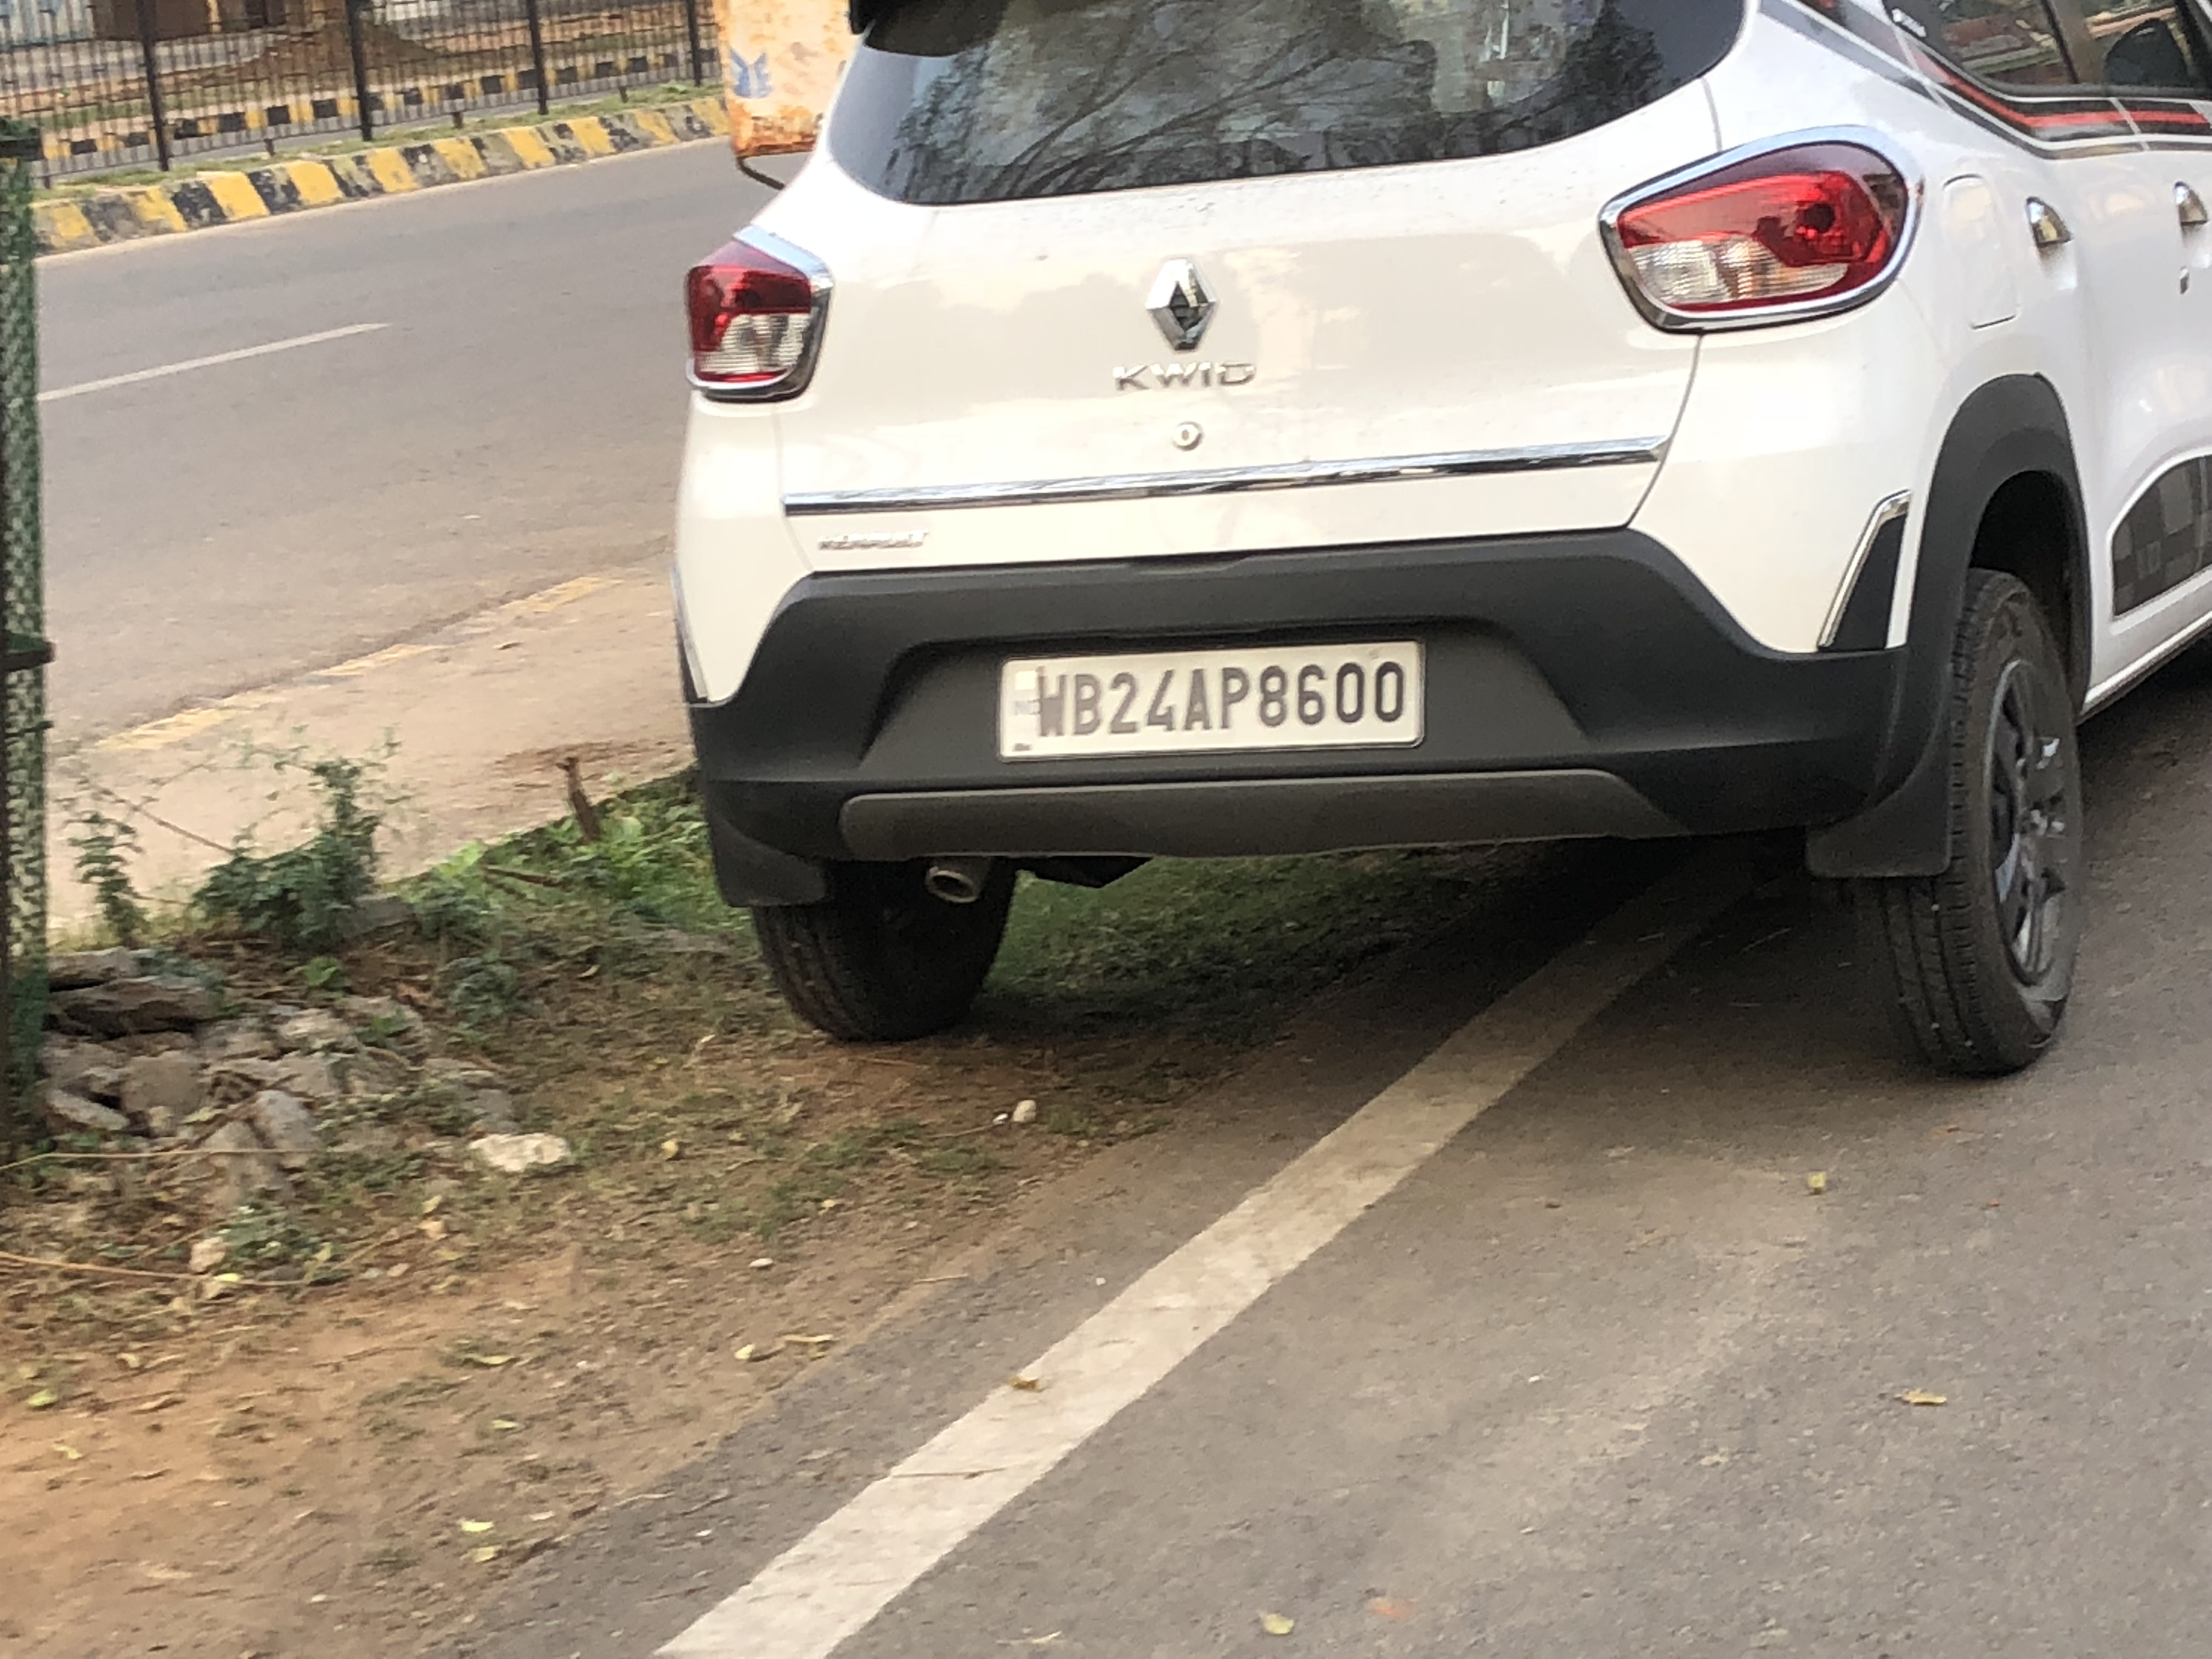licenseplate: (983, 633, 1436, 766)
